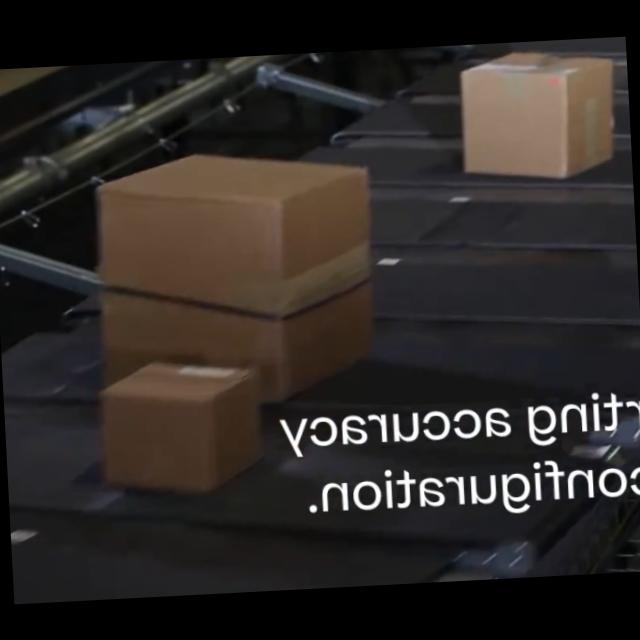box: (89, 143, 381, 394), (98, 358, 269, 493), (458, 47, 622, 181)
